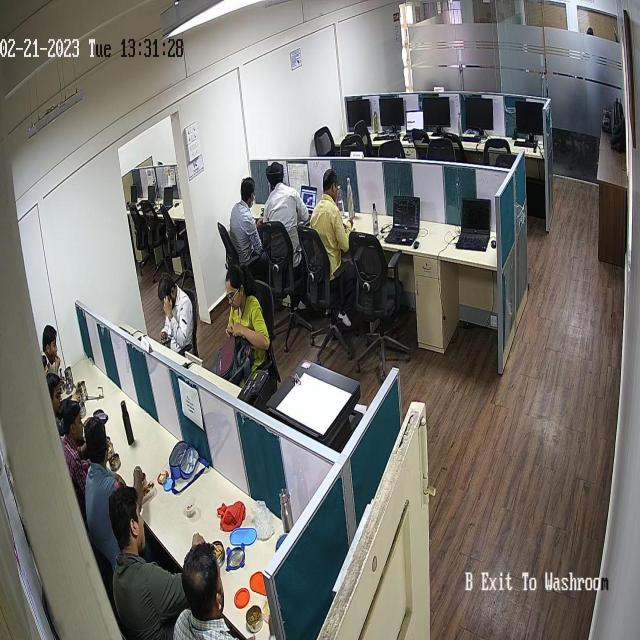chair: (162, 208, 193, 280), (144, 203, 170, 282), (130, 205, 155, 283)
keyboard: (370, 131, 399, 144), (459, 132, 481, 146), (514, 140, 539, 150)
laptop: (382, 191, 422, 249), (455, 195, 492, 252), (402, 109, 425, 146), (300, 181, 318, 214), (157, 185, 174, 216), (141, 184, 157, 212), (124, 182, 139, 207)
monitor: (419, 94, 451, 130), (514, 100, 545, 136), (464, 98, 496, 130), (344, 97, 373, 132), (378, 96, 406, 130)
person: (104, 482, 203, 640), (79, 412, 146, 584), (171, 537, 272, 640), (221, 264, 277, 384), (257, 158, 310, 283), (309, 171, 359, 298), (154, 267, 207, 380), (224, 174, 262, 276), (58, 390, 99, 484)
phone: (158, 332, 172, 347)
